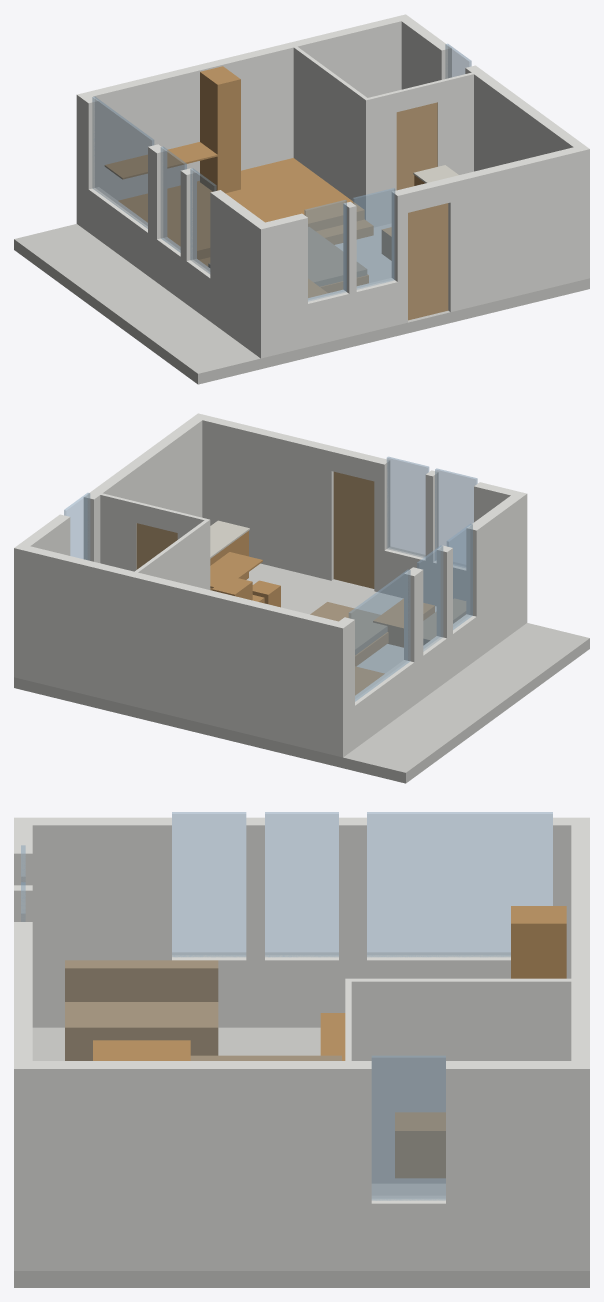
File: CAB_V3_PLANCHER_HABITE.glb
3 views of the same model, one above another, from view 1: azimuth 30°, elevation 25°; view 2: azimuth 150°, elevation 25°; view 3: azimuth 270°, elevation 25° (orthographic). The views are drawn at different scales.
Parts seen in each view (by area): view 1: 100005, 100003, 100002, 100006, 100004, 100017, 100014, 100015, 100019, 100007, 100013, 100012 (+7 smaller); view 2: 100003, 100005, 100002, 100006, 100004, 100007, 100013, 100015, 100012, 100011, 100014, 100009 (+8 smaller); view 3: 100004, 100006, 100007, 100014, 100022, 100002, 100010, 100009, 100008, 100003, 100005, 100019 (+3 smaller).
Boxes of the visible parts, bbox=[...] form: 100005: bbox=[261, 147, 589, 358]; 100003: bbox=[77, 14, 405, 200]; 100002: bbox=[14, 223, 589, 384]; 100006: bbox=[76, 94, 264, 358]; 100004: bbox=[401, 14, 589, 171]; 100017: bbox=[118, 158, 373, 266]; 100014: bbox=[293, 46, 367, 219]; 100015: bbox=[366, 72, 473, 227]; 100019: bbox=[104, 66, 240, 193]; 100007: bbox=[92, 96, 154, 228]; 100013: bbox=[408, 203, 448, 320]; 100012: bbox=[352, 188, 395, 289]; 100003: bbox=[14, 546, 342, 757]; 100005: bbox=[198, 413, 526, 605]; 100002: bbox=[14, 563, 589, 783]; 100006: bbox=[339, 493, 527, 757]; 100004: bbox=[14, 413, 202, 562]; 100007: bbox=[348, 569, 410, 701]; 100013: bbox=[333, 471, 374, 588]; 100015: bbox=[100, 493, 209, 571]; 100012: bbox=[386, 456, 429, 557]; 100011: bbox=[435, 468, 477, 567]; 100014: bbox=[135, 519, 210, 589]; 100009: bbox=[446, 523, 472, 629]; 100004: bbox=[14, 1061, 589, 1270]; 100006: bbox=[14, 817, 589, 1027]; 100007: bbox=[367, 812, 552, 957]; 100014: bbox=[345, 978, 571, 1183]; 100022: bbox=[65, 960, 218, 1060]; 100002: bbox=[14, 1027, 589, 1287]; 100010: bbox=[371, 1055, 445, 1200]; 100009: bbox=[172, 812, 246, 957]; 100008: bbox=[265, 812, 338, 957]; 100003: bbox=[571, 818, 589, 1068]; 100005: bbox=[14, 818, 32, 1068]; 100019: bbox=[511, 906, 566, 978].
Bounding box in the file's own units: 7.62 × 2.7 × 6.2.
